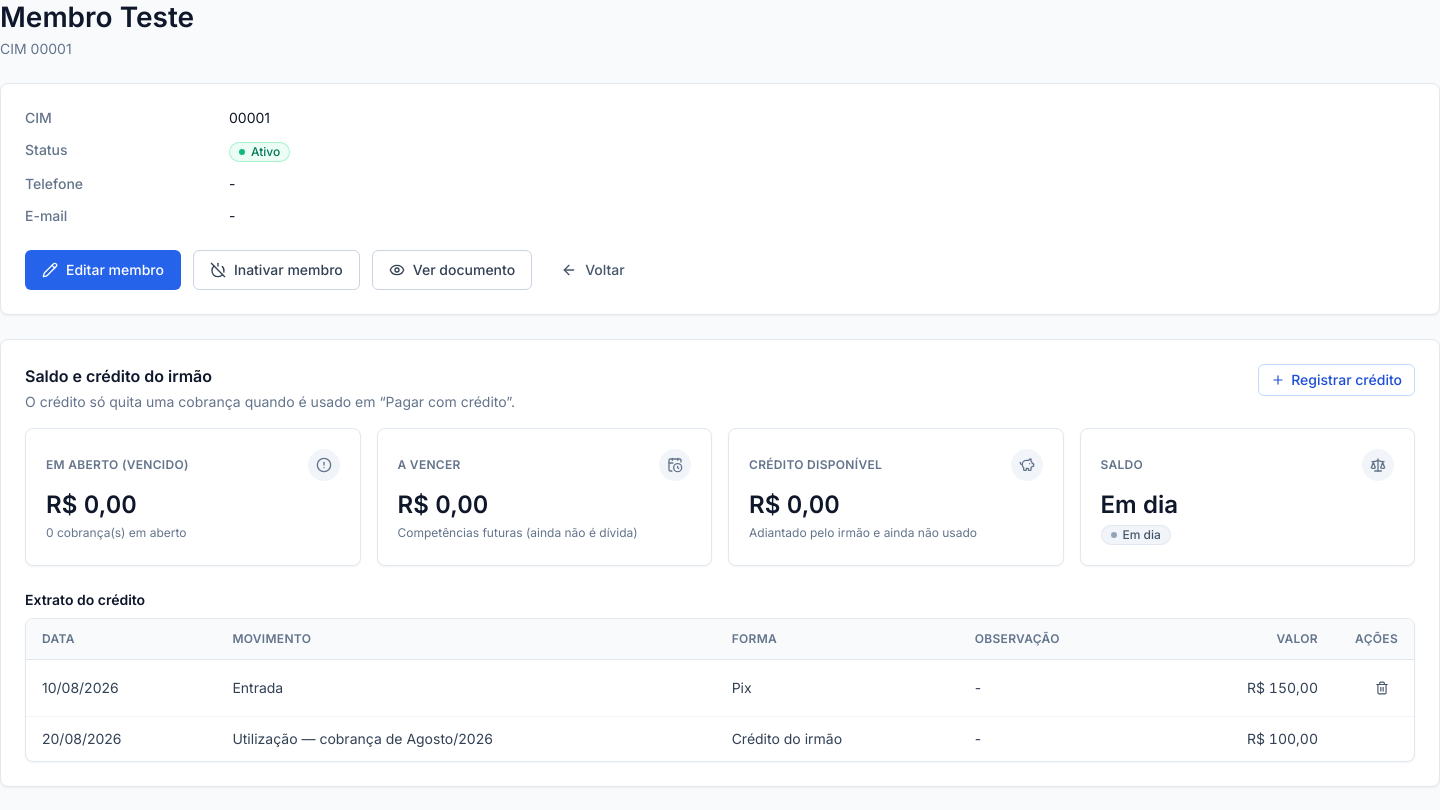
Test: MembroDetailPage — registrar e excluir crédito › 409 ao excluir (crédito já usado) fecha a confirmação, mostra a mensagem e recarrega
The image size is (1440, 810).
Click the button named "Excluir crédito de R$ 150,00 de 10/08/2026": (1382, 688) top-left (1366, 672), bottom-right (1398, 704)
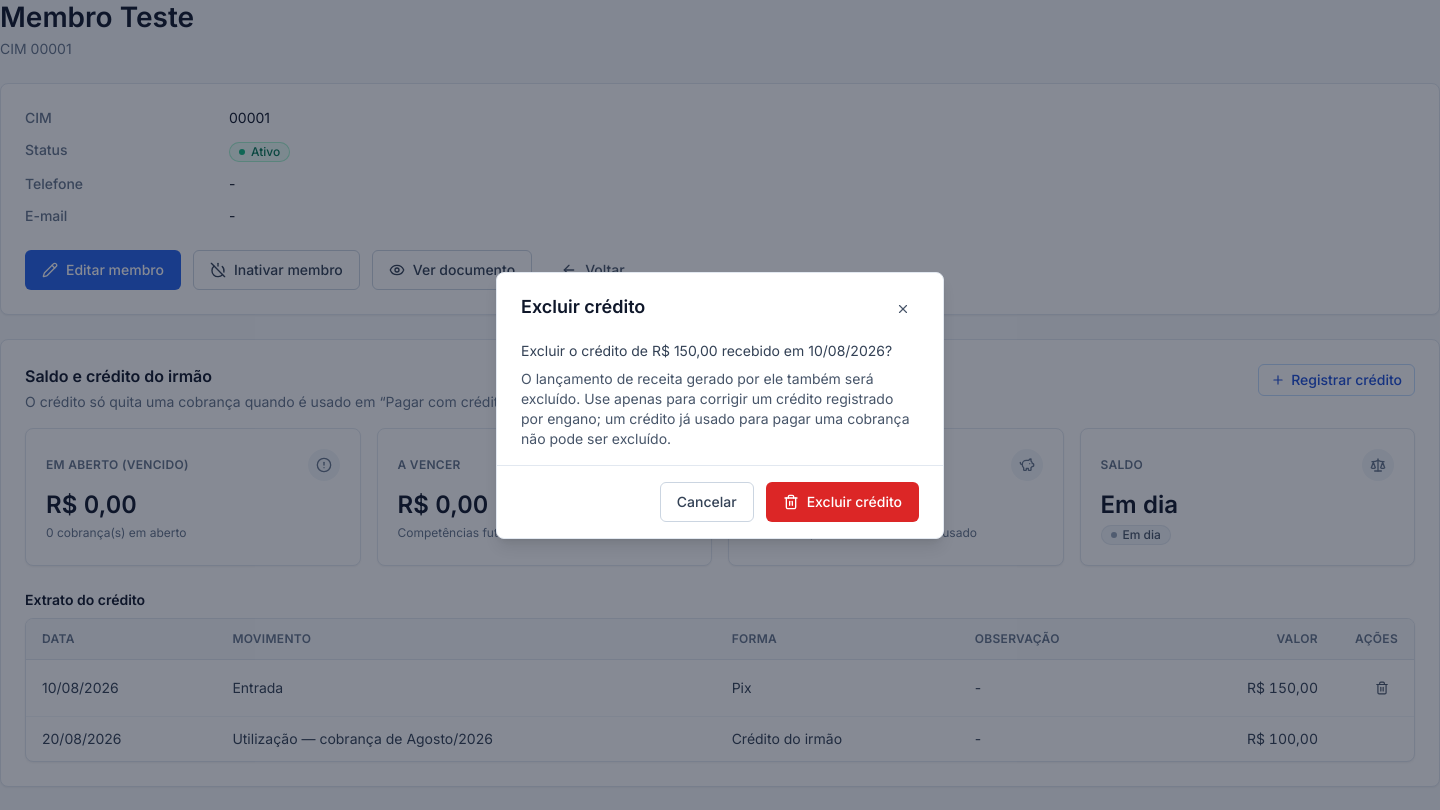
Click the button "Excluir crédito": (842, 502) top-left (766, 482), bottom-right (919, 522)
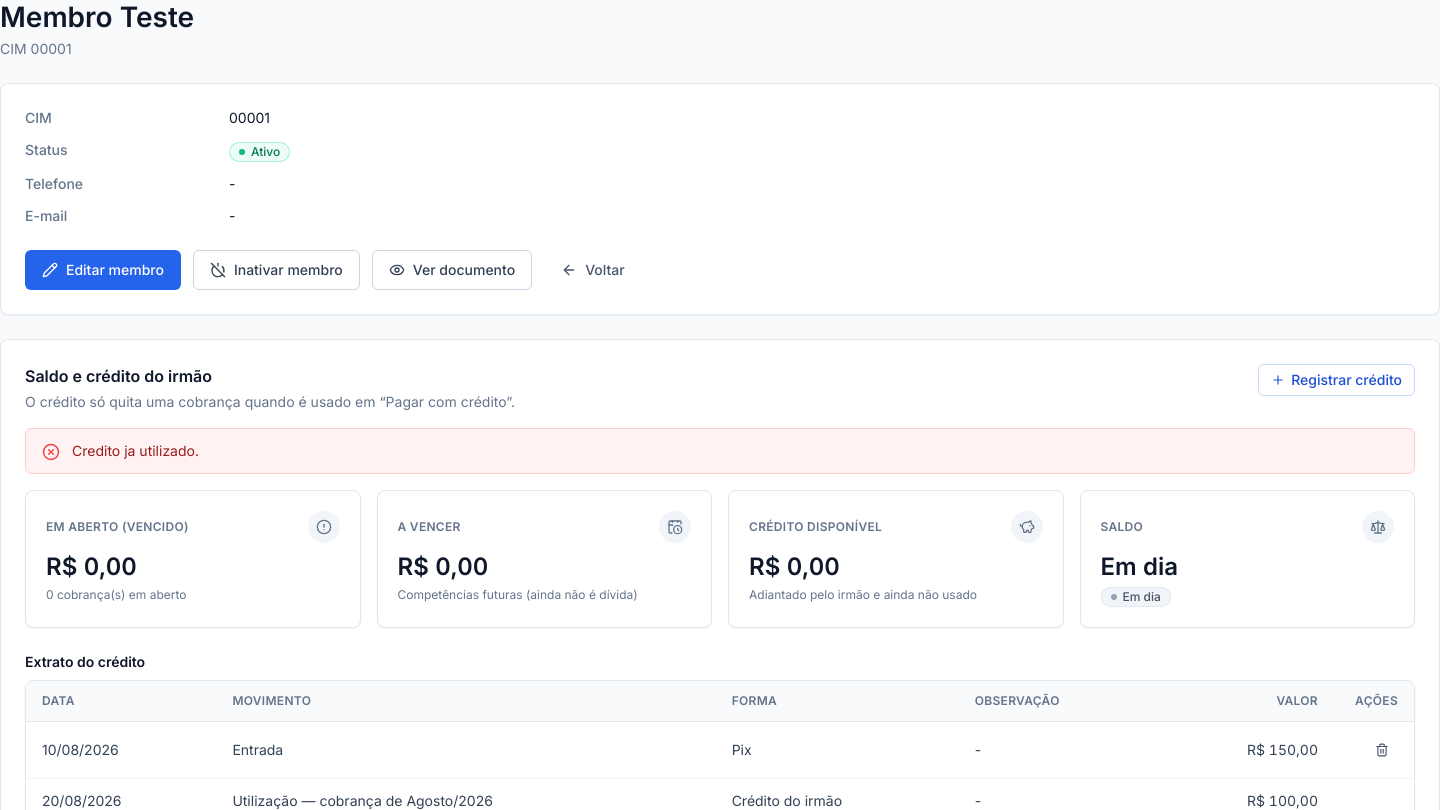
Result: the text "Credito ja utilizado." is shown at top-left (72, 441), bottom-right (199, 461)
Result: the dialog is gone
